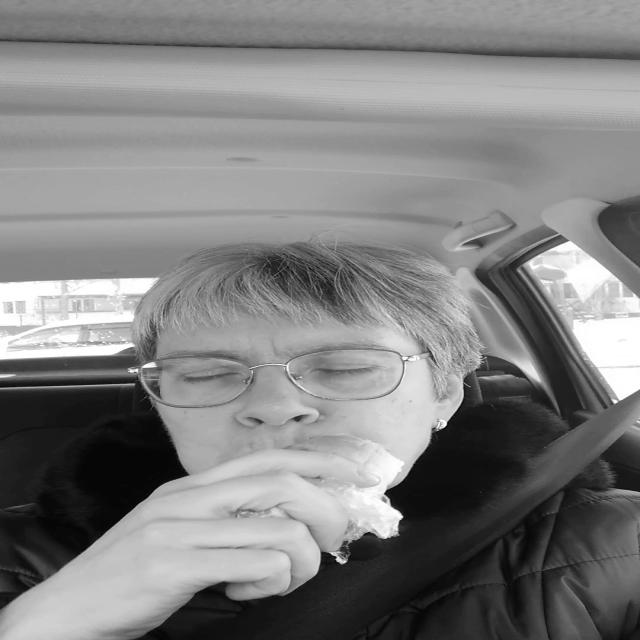Eating: (250, 418, 417, 557)
Seatbelt: (222, 389, 640, 640)
